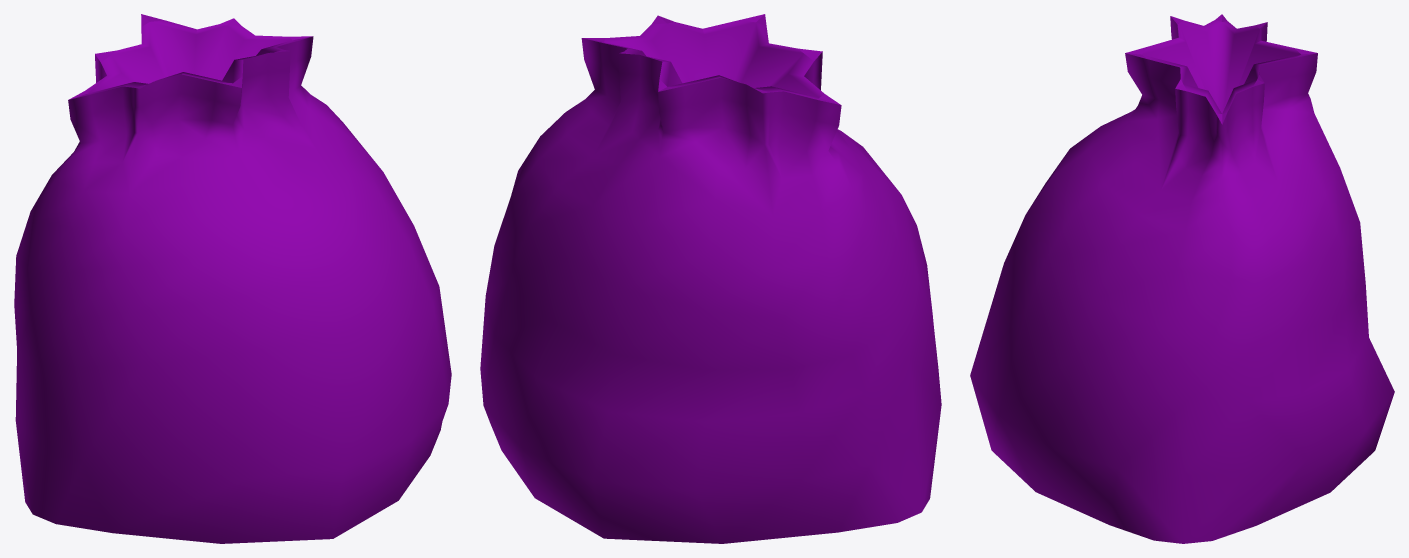
File: SM_Bags_05.fbx
3 views of the same model, side by side, from view 1: azimuth 30°, elevation 25°; view 2: azimuth 150°, elevation 25°; view 3: azimuth 270°, elevation 25° (orthographic). The views are drawn at different scales.
Visible parts, largest first — view 1: Bags_05; view 2: Bags_05; view 3: Bags_05.
Boxes of the visible parts, x1,y1,x2,y2 form: Bags_05: (14,14,451,543); Bags_05: (480,14,941,543); Bags_05: (970,14,1394,543).
Bounding box in the file's own units: 92.45 × 90.07 × 88.9.
